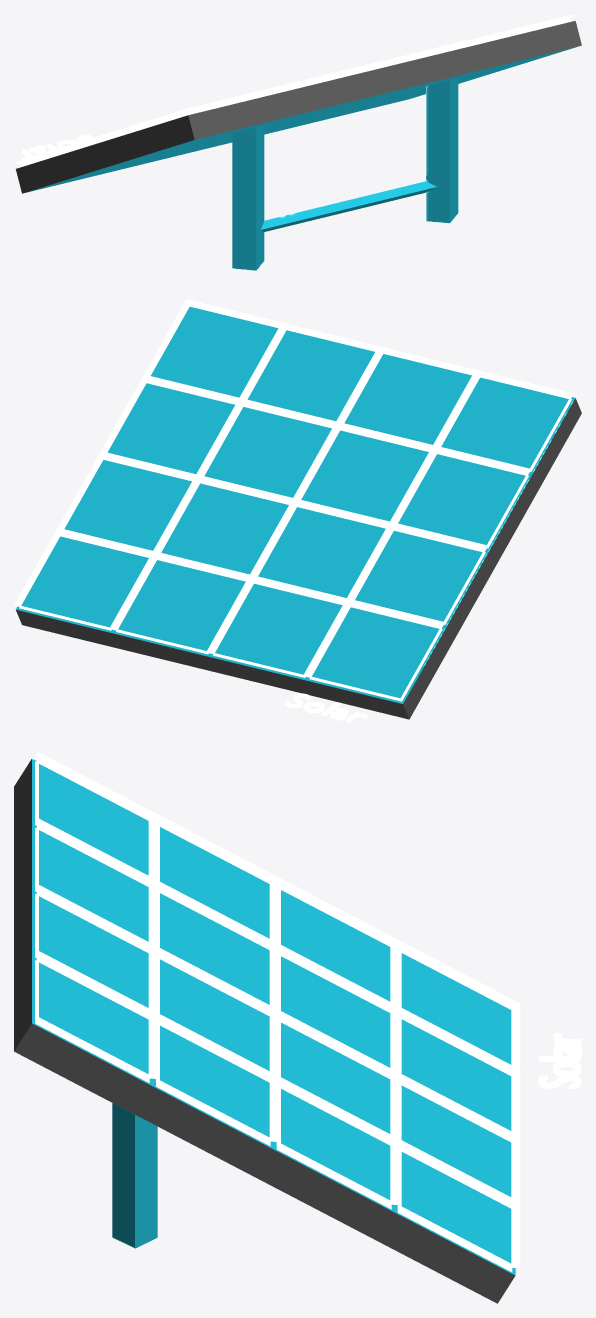
The model's file is Bloco_Solar.fbx.
3 views of the same model, one above another, from view 1: azimuth 30°, elevation 25°; view 2: azimuth 150°, elevation 25°; view 3: azimuth 270°, elevation 25° (orthographic). The views are drawn at different scales.
Visible parts, largest first — view 1: Bloco_Solar_Baked; view 2: Bloco_Solar_Baked; view 3: Bloco_Solar_Baked.
Part boxes in pixels (bbox=[...]): Bloco_Solar_Baked: bbox=[14, 14, 581, 270]; Bloco_Solar_Baked: bbox=[14, 299, 581, 722]; Bloco_Solar_Baked: bbox=[14, 751, 581, 1303].
Size of the model in its own units: 12.98 by 6.58 by 11.76.
